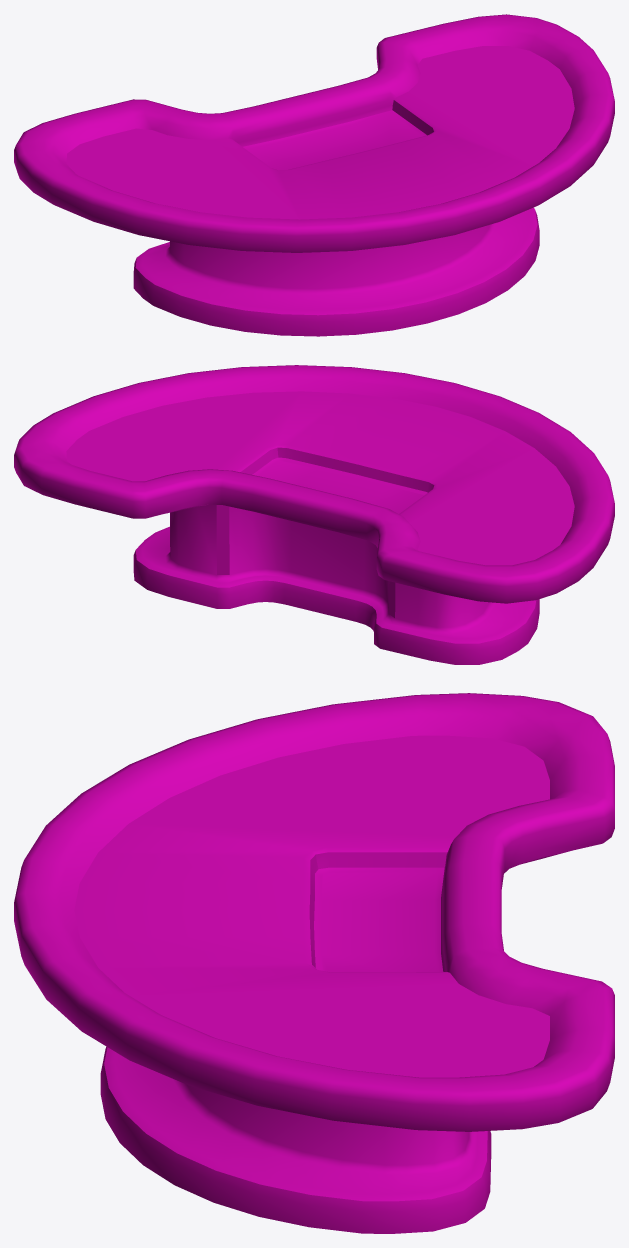
File: SM_Table_Poker.fbx
The picture shows the model from 3 angles, top to bottom: view 1: azimuth 30°, elevation 25°; view 2: azimuth 150°, elevation 25°; view 3: azimuth 270°, elevation 25°; orthographic projection. The views are drawn at different scales.
Parts seen in each view (by area): view 1: SM_Table_Poker; view 2: SM_Table_Poker; view 3: SM_Table_Poker.
Part boxes in pixels (x1,y1,x2,y2): SM_Table_Poker: [14, 14, 614, 336]; SM_Table_Poker: [14, 365, 614, 664]; SM_Table_Poker: [14, 693, 614, 1233].
Bounding box in the file's own units: 497 × 115 × 311.
